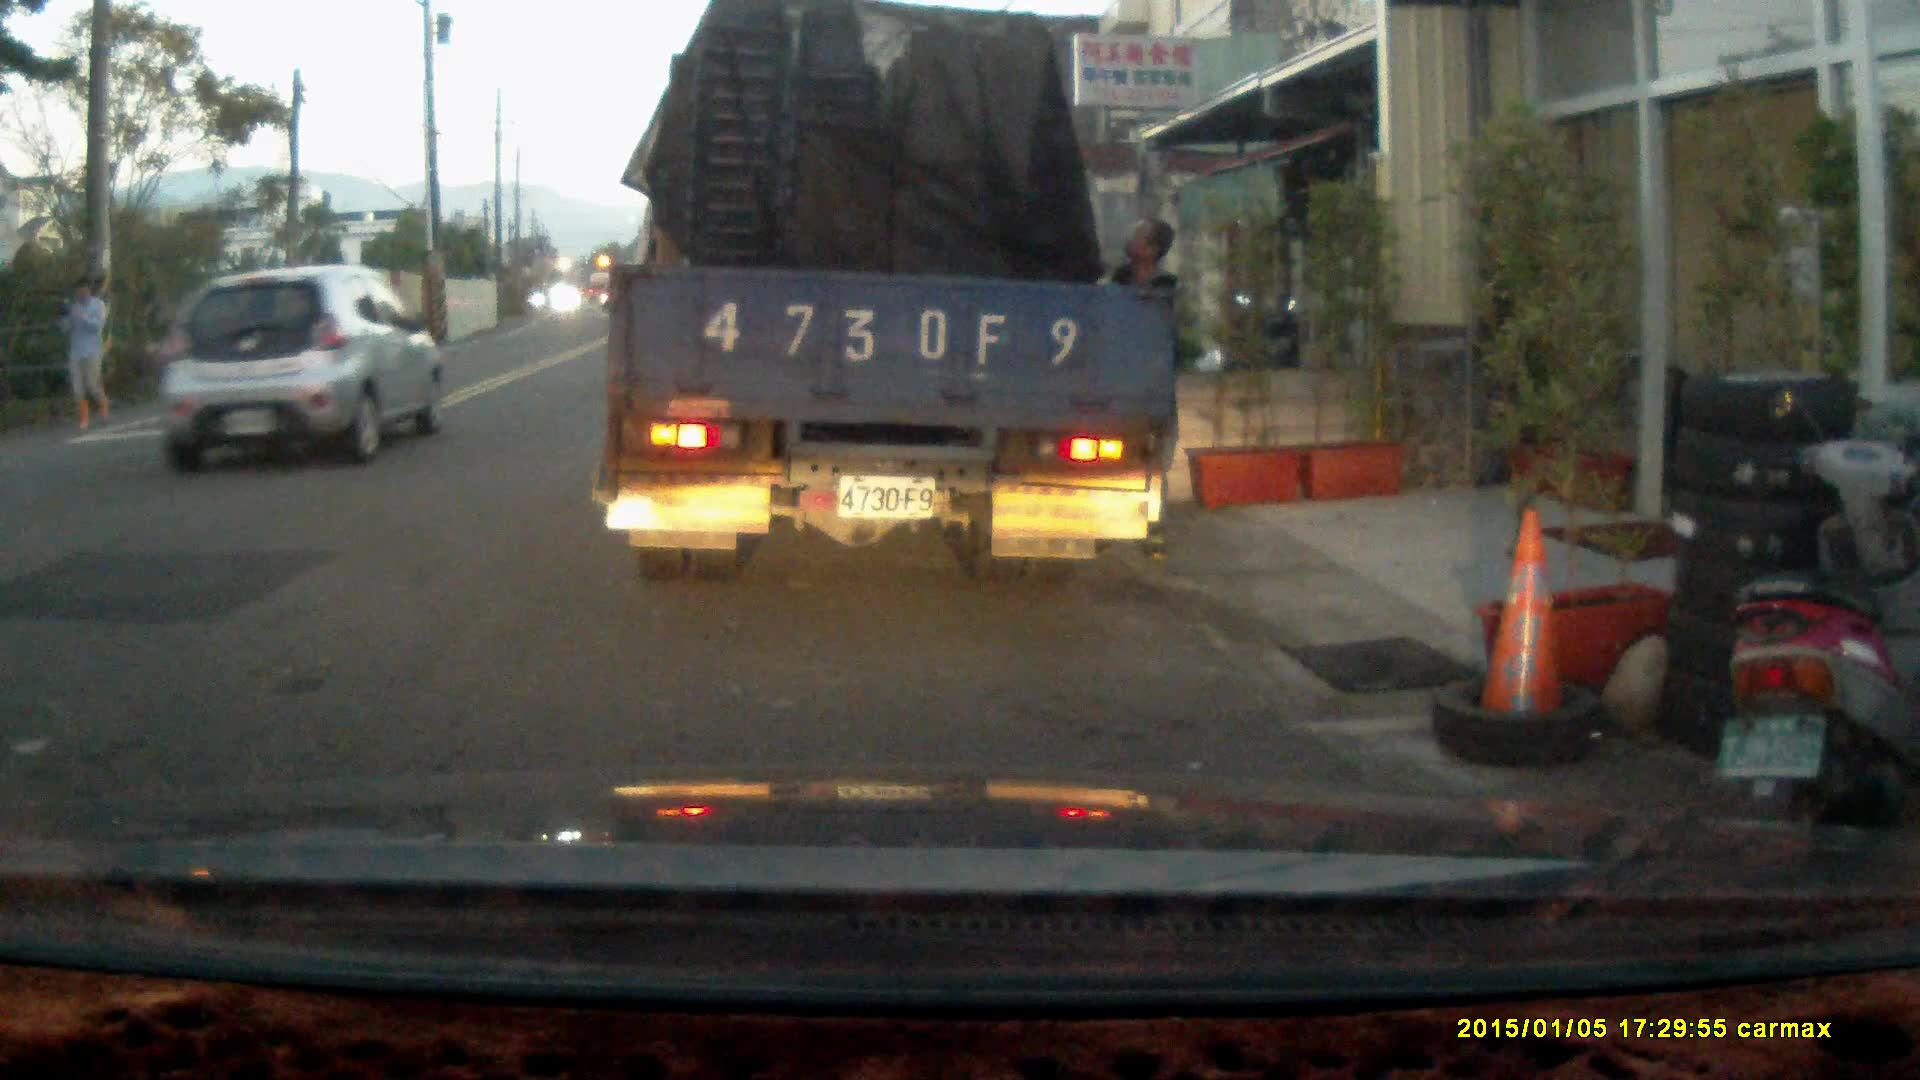pedestrian: (1085, 212, 1186, 566), (51, 275, 116, 424)
vehicle: (602, 23, 1186, 572), (157, 263, 446, 469)
